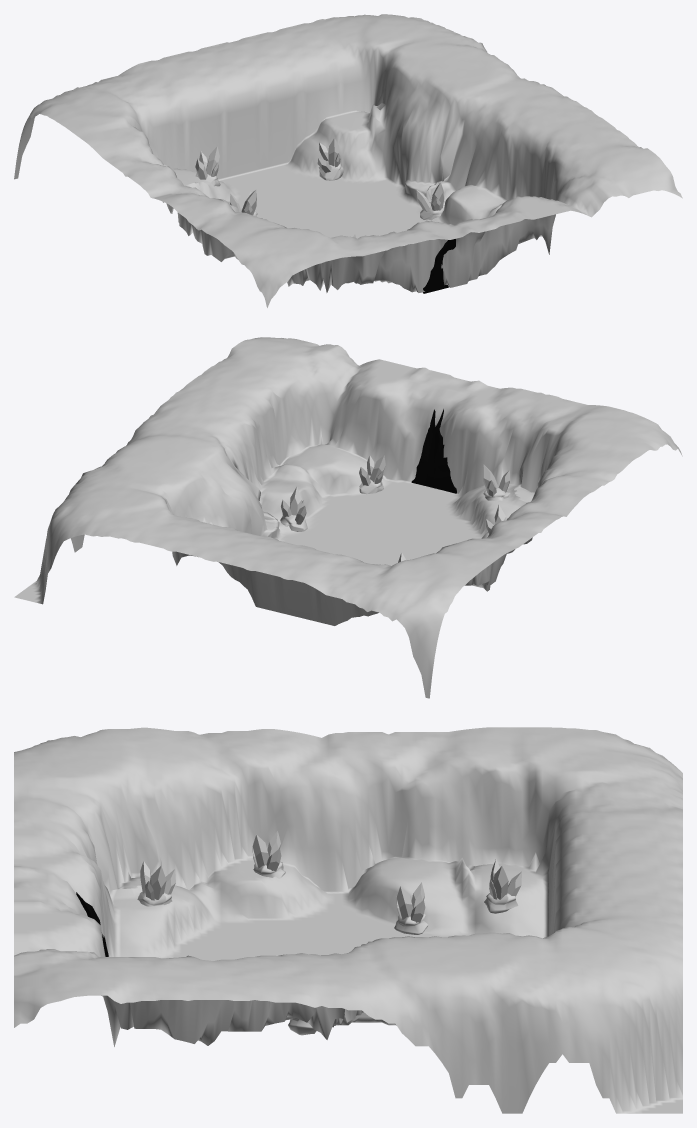
File: Cavern.fbx
3 views of the same model, one above another, from view 1: azimuth 30°, elevation 25°; view 2: azimuth 150°, elevation 25°; view 3: azimuth 270°, elevation 25° (orthographic). The views are drawn at different scales.
Parts seen in each view (by area): view 1: Cavern, CavernEnterance, Gemstone6, Gemstone5, Gemstone; view 2: Cavern, CavernEnterance, Gemstone2; view 3: Cavern, Gemstone4, Gemstone1, Gemstone3, Gemstone6.
Boxes of the visible parts, x1,y1,x2,y2 form: Cavern: [14, 14, 682, 307]; CavernEnterance: [423, 239, 455, 293]; Gemstone6: [195, 146, 219, 179]; Gemstone5: [317, 138, 340, 172]; Gemstone: [416, 182, 444, 211]; Cavern: [14, 337, 682, 698]; CavernEnterance: [411, 409, 456, 493]; Gemstone2: [359, 455, 385, 485]; Cavern: [14, 727, 682, 1113]; Gemstone4: [140, 861, 175, 900]; Gemstone1: [396, 882, 425, 922]; Gemstone3: [252, 831, 281, 871]; Gemstone6: [489, 859, 521, 899].
Size of the model in its own units: 4563 by 1035 by 4814.
